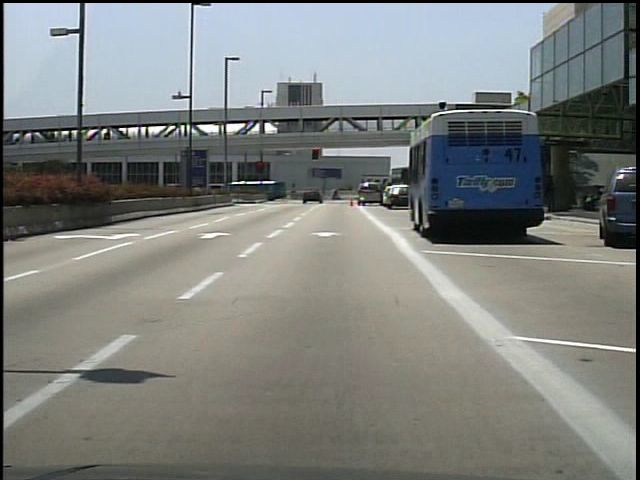person: (545, 175, 560, 211), (331, 187, 343, 202), (331, 187, 341, 202)
